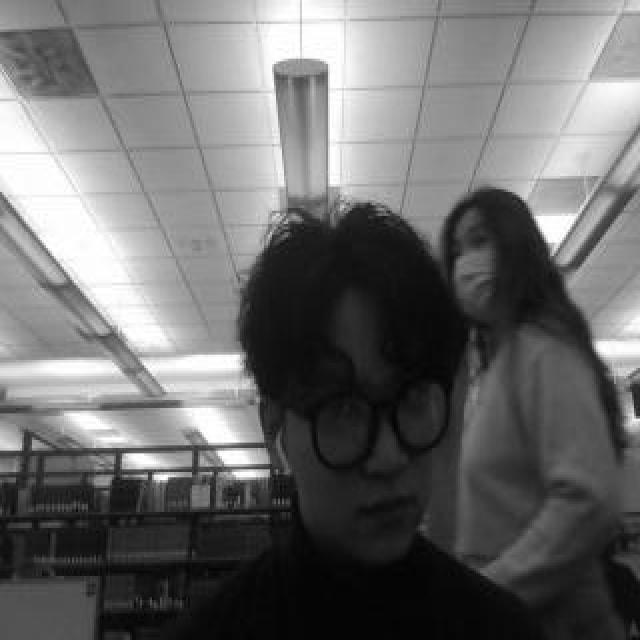Focused: (285, 274, 443, 586), (442, 208, 498, 302)
